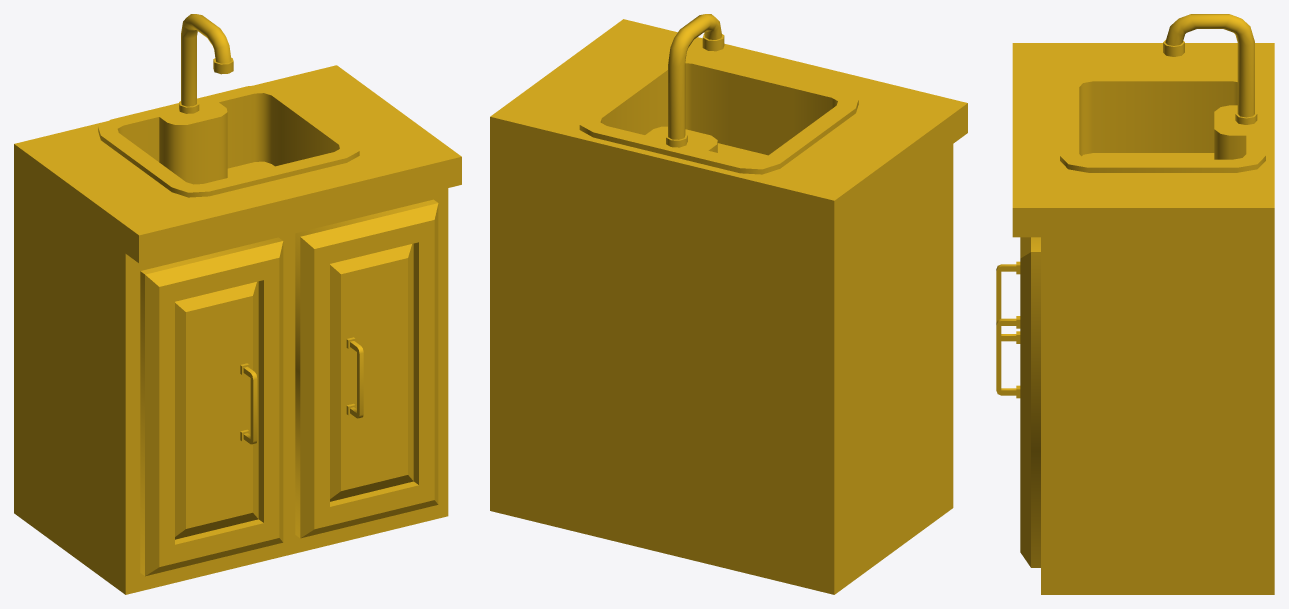
Rendered from CTS_E_Sink.fbx.
The picture shows the model from 3 angles, left to right: view 1: azimuth 30°, elevation 25°; view 2: azimuth 150°, elevation 25°; view 3: azimuth 270°, elevation 25°; orthographic projection. The views are drawn at different scales.
Parts seen in each view (by area): view 1: CTS_E_Sink; view 2: CTS_E_Sink; view 3: CTS_E_Sink.
Boxes of the visible parts, box(x1,y1,x2,y2) form: CTS_E_Sink: box(14, 14, 461, 594); CTS_E_Sink: box(490, 14, 967, 594); CTS_E_Sink: box(996, 14, 1274, 594).
Size of the model in its own units: 98.13 by 138 by 70.04.
